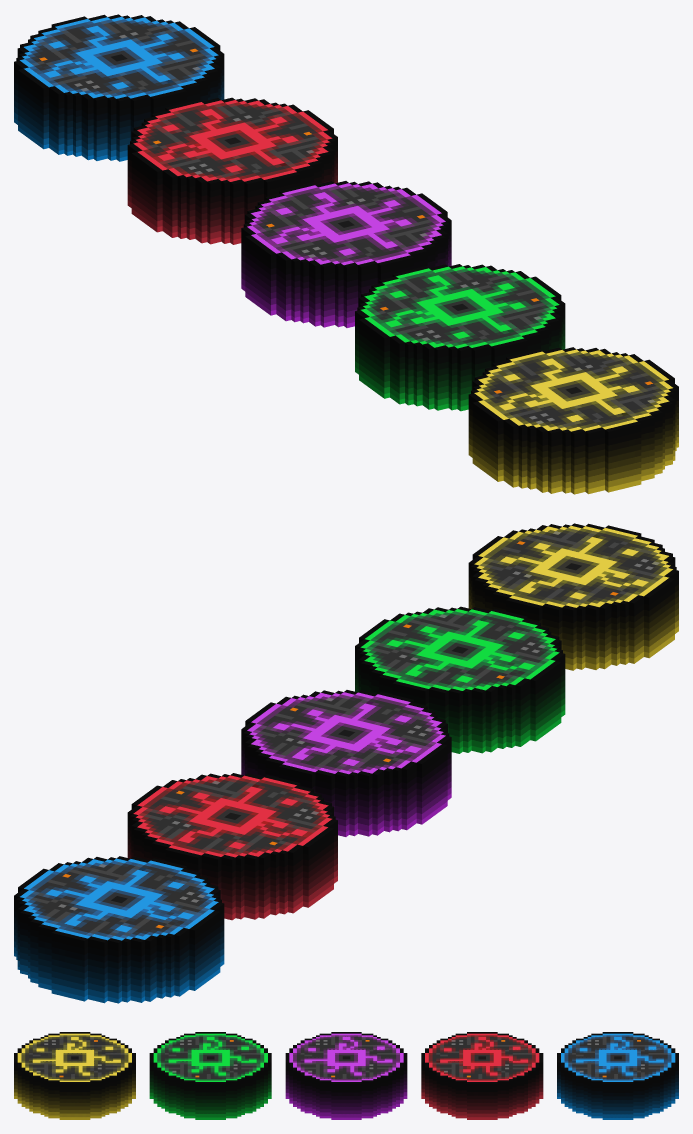
File: Tile_set.fbx
3 views of the same model, one above another, from view 1: azimuth 30°, elevation 25°; view 2: azimuth 150°, elevation 25°; view 3: azimuth 270°, elevation 25° (orthographic). The views are drawn at different scales.
Visible parts, largest first — view 1: tile_Y, tile_R, tile_G, tile_B, tile_P; view 2: tile_B, tile_G, tile_R, tile_Y, tile_P; view 3: tile_R, tile_G, tile_P, tile_Y, tile_B.
Boxes of the visible parts, x1=… form: tile_Y: x1=468, y1=347, x2=678, y2=494; tile_R: x1=127, y1=97, x2=337, y2=244; tile_G: x1=355, y1=264, x2=565, y2=411; tile_B: x1=14, y1=14, x2=224, y2=161; tile_P: x1=241, y1=181, x2=451, y2=327; tile_B: x1=14, y1=856, x2=224, y2=1003; tile_G: x1=355, y1=606, x2=565, y2=753; tile_R: x1=127, y1=773, x2=337, y2=920; tile_Y: x1=468, y1=523, x2=678, y2=670; tile_P: x1=241, y1=690, x2=451, y2=836; tile_R: x1=421, y1=1032, x2=543, y2=1119; tile_G: x1=149, y1=1032, x2=271, y2=1119; tile_P: x1=285, y1=1032, x2=407, y2=1119; tile_Y: x1=14, y1=1032, x2=135, y2=1119; tile_B: x1=557, y1=1032, x2=678, y2=1119.
Size of the model in its own units: 28 by 153 by 9.17.
Materials: 1 (1 with a texture image).
